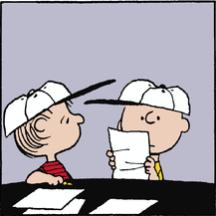charlie: (106, 79, 192, 181)
